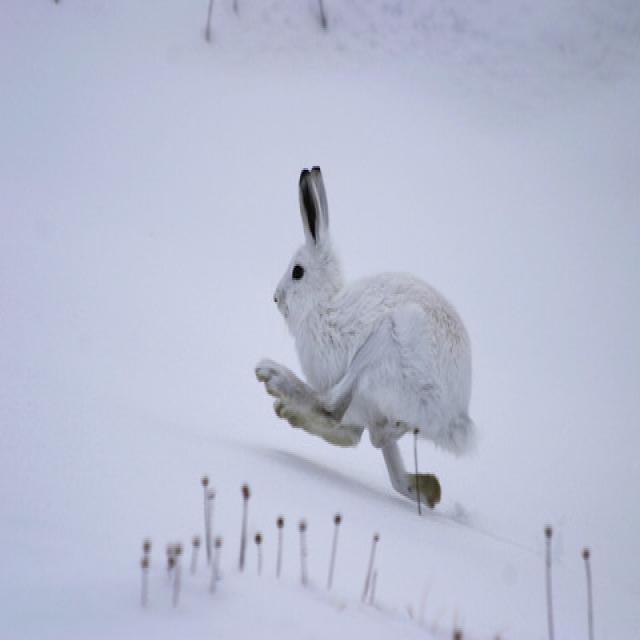Hare: (263, 159, 475, 510)
